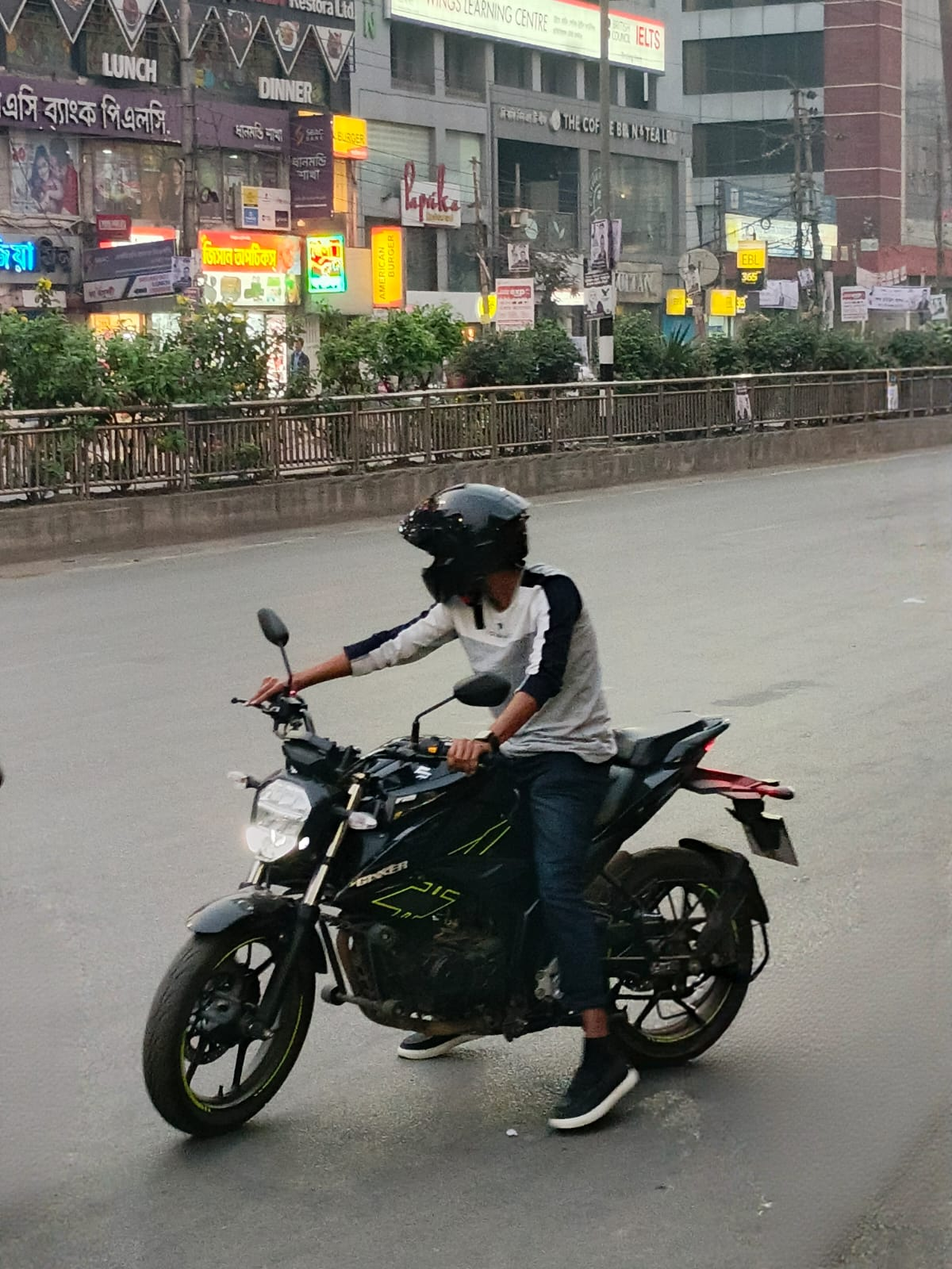Bikes: (135, 477, 817, 1152)
